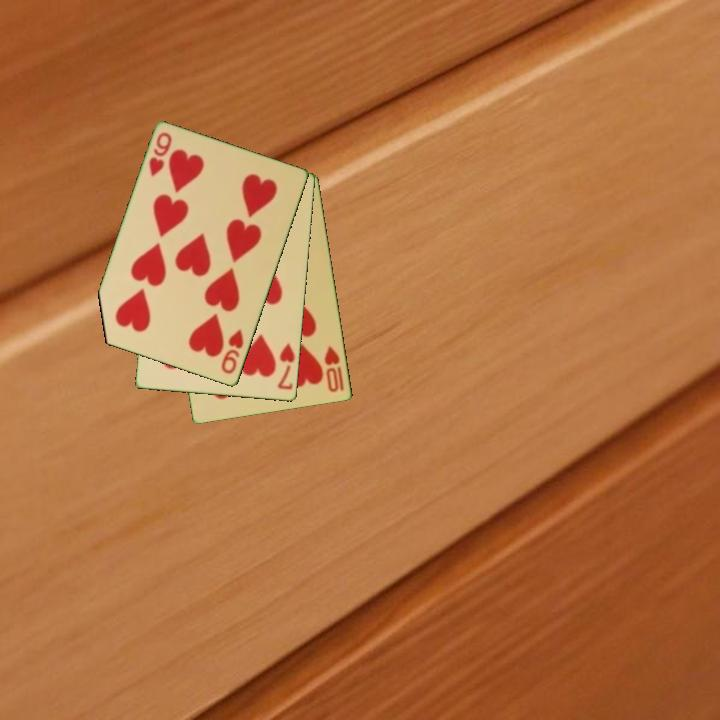10h: (321, 342, 347, 395)
7h: (275, 340, 298, 393)
9h: (145, 129, 175, 180), (218, 326, 247, 377)
